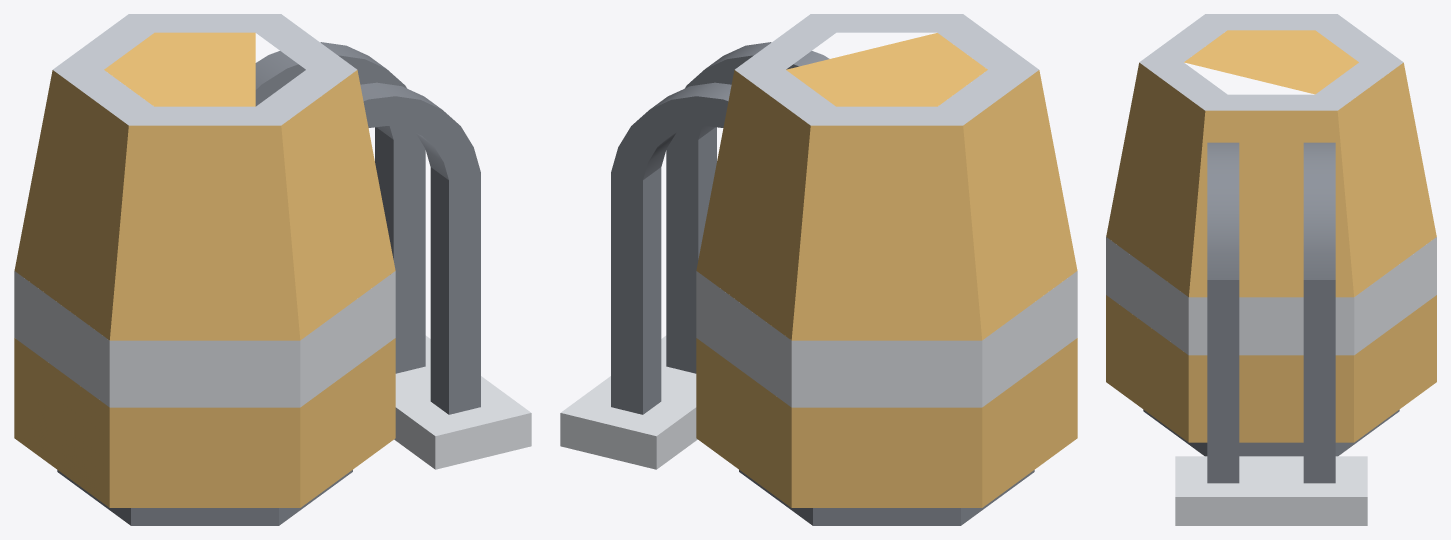
Rendered from machine_barrel.glb.
The picture shows the model from 3 angles, left to right: view 1: azimuth 30°, elevation 25°; view 2: azimuth 150°, elevation 25°; view 3: azimuth 270°, elevation 25°; orthographic projection. The views are drawn at different scales.
Visible parts, largest first — view 1: machine_barrel; view 2: machine_barrel; view 3: machine_barrel.
Part boxes in pixels (left/top/right/bottom): machine_barrel: left=14, top=14, right=531, bottom=525; machine_barrel: left=560, top=14, right=1077, bottom=525; machine_barrel: left=1106, top=14, right=1436, bottom=525.
Bounding box in the file's own units: 0.6464 × 0.6 × 0.5155.
